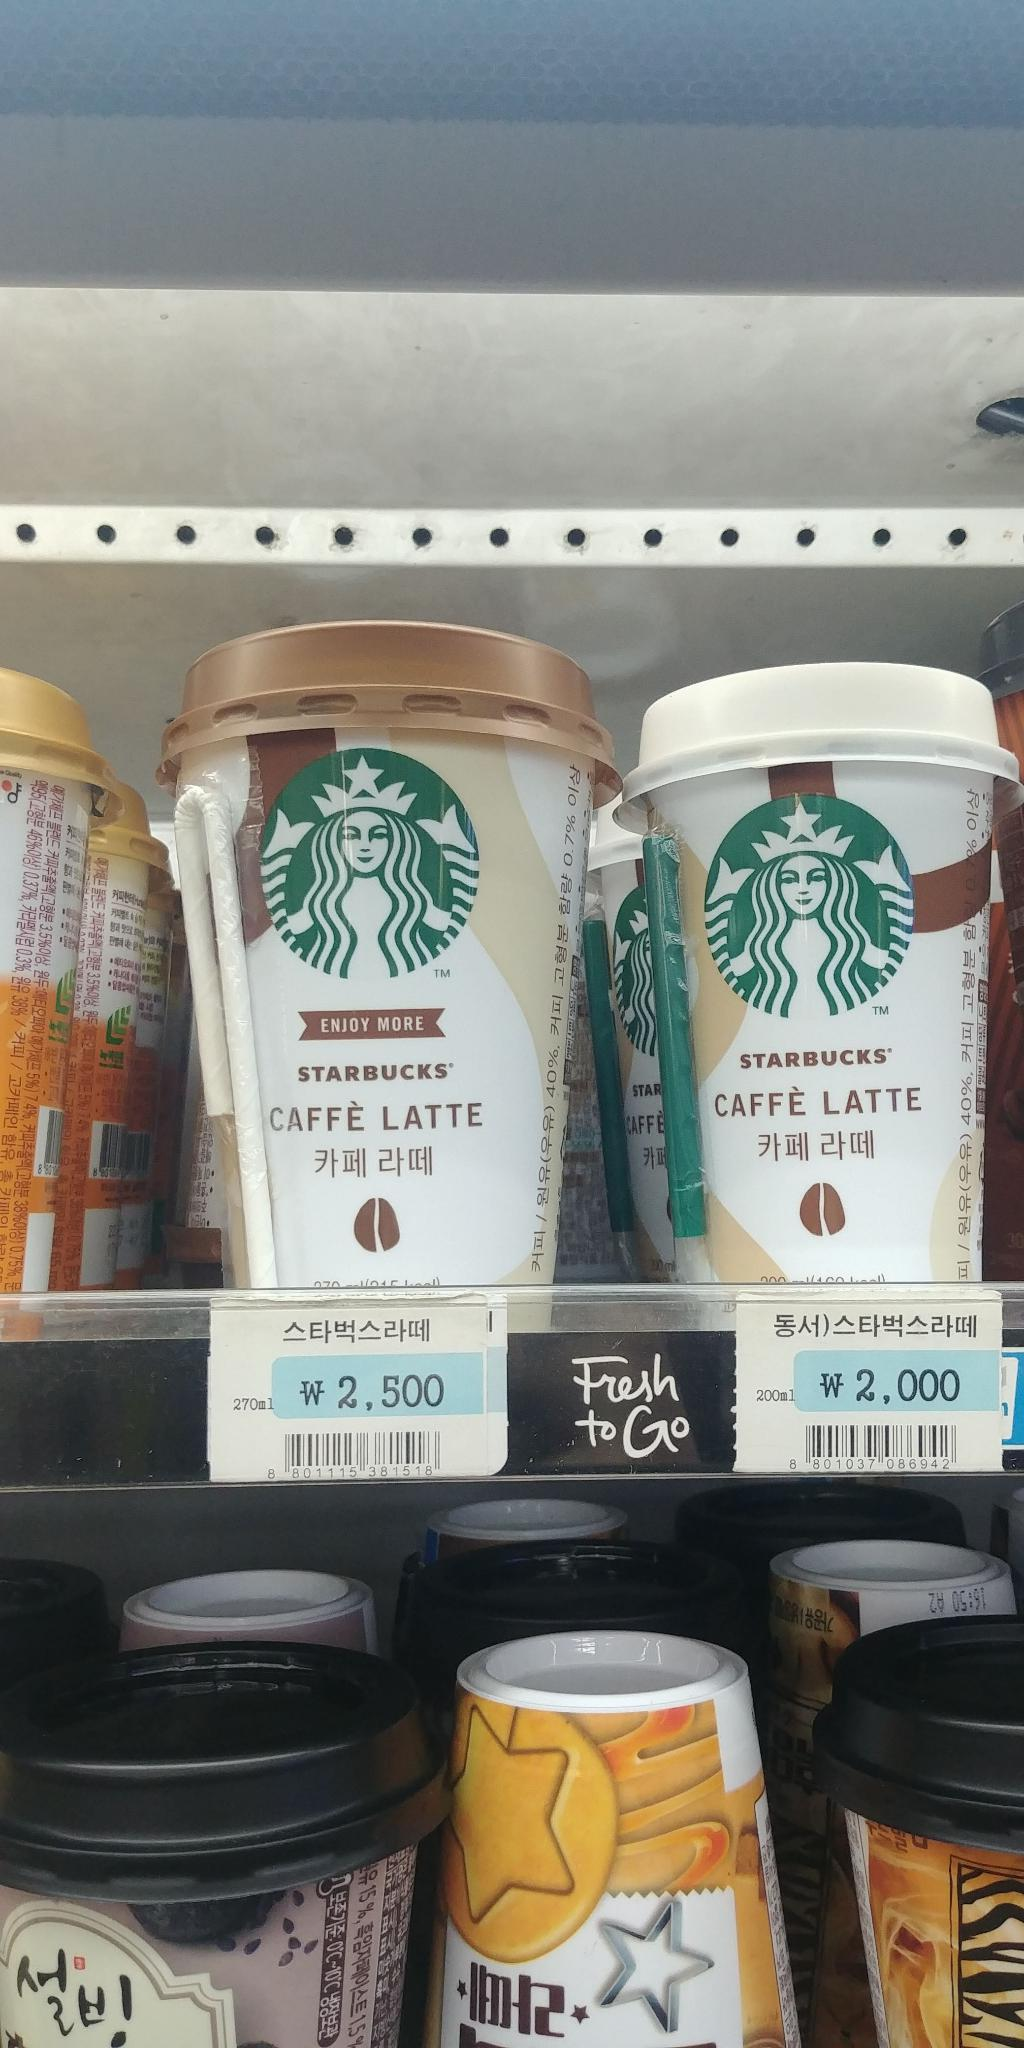starbucks_cafelatte: (158, 601, 618, 1365)
